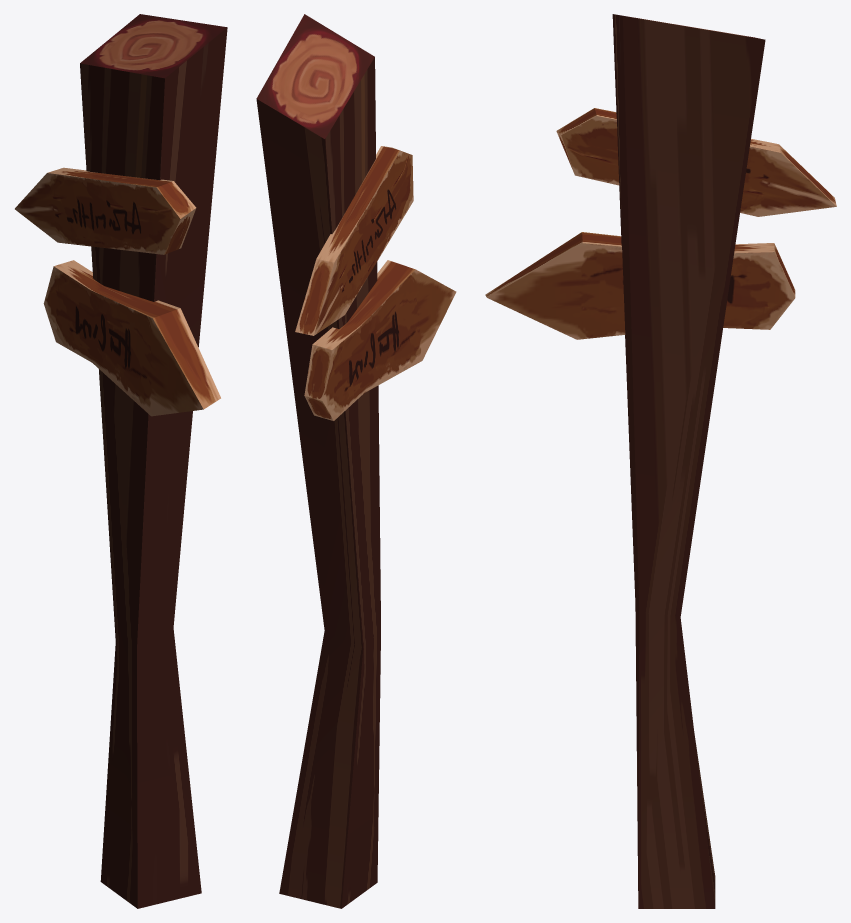
Rendered from poteau-indicateur-2.glb.
The picture shows the model from 3 angles, left to right: view 1: azimuth 30°, elevation 25°; view 2: azimuth 150°, elevation 25°; view 3: azimuth 270°, elevation 25°; orthographic projection. The views are drawn at different scales.
Visible parts, largest first — view 1: SM_PROP_signpost_02; view 2: SM_PROP_signpost_02; view 3: SM_PROP_signpost_02.
Part boxes in pixels (x1=…): SM_PROP_signpost_02: x1=15, y1=14, x2=227, y2=908; SM_PROP_signpost_02: x1=256, y1=14, x2=456, y2=908; SM_PROP_signpost_02: x1=485, y1=14, x2=836, y2=908.
Size of the model in its own units: 0.5356 by 3.98 by 1.41.
Materials: 3 (3 with a texture image).
